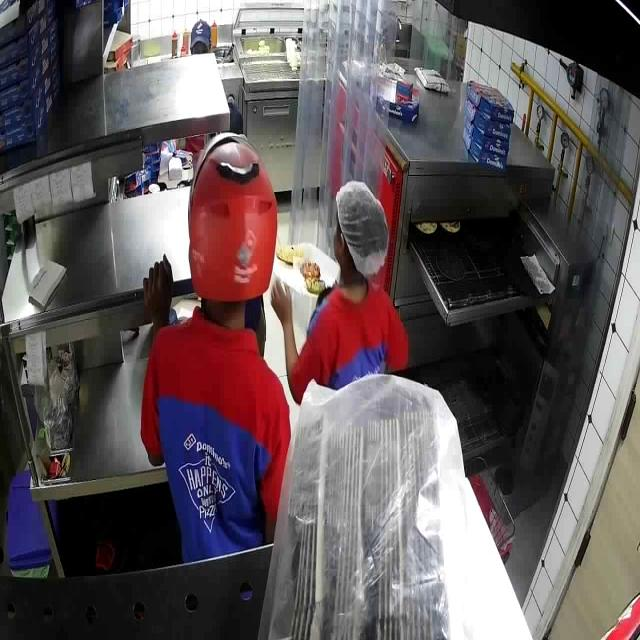helmet: (187, 133, 279, 332)
no_helmet: (333, 180, 388, 284)
